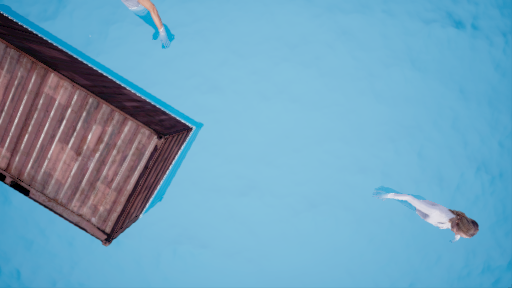person: (378, 186, 478, 245)
